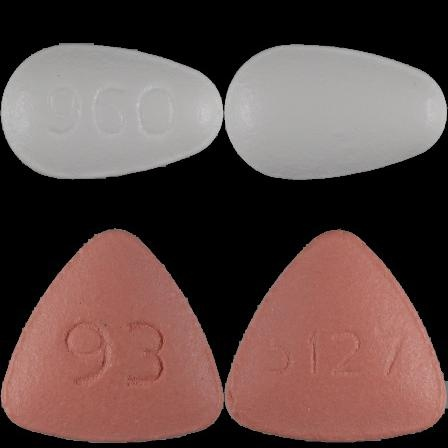63629-2912: (0, 0, 224, 224)
